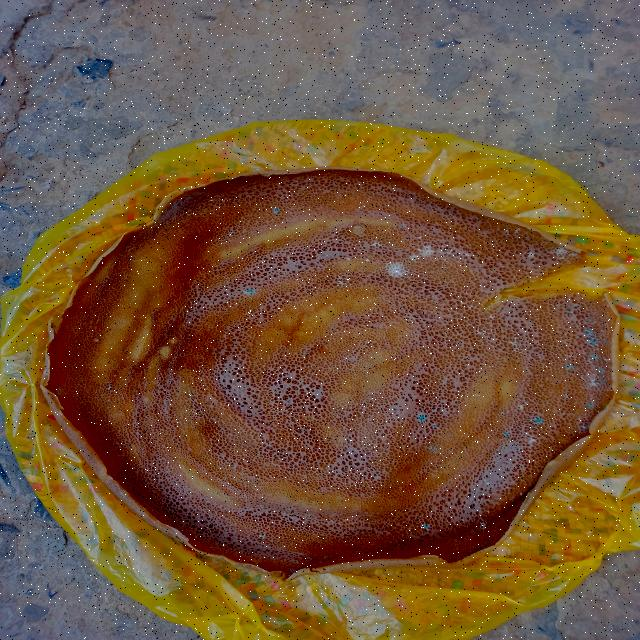injera_mold: (563, 325, 615, 413), (552, 243, 579, 266), (380, 259, 411, 278), (332, 270, 354, 288), (204, 192, 233, 205), (500, 225, 524, 240), (521, 433, 540, 450), (508, 337, 525, 356), (472, 327, 494, 336), (475, 514, 487, 530), (244, 286, 259, 298), (368, 241, 384, 248), (533, 416, 545, 425), (418, 412, 428, 422), (421, 522, 432, 531), (55, 388, 66, 397), (272, 208, 283, 215), (257, 534, 268, 541), (483, 480, 492, 488), (431, 422, 440, 430), (474, 391, 482, 400), (106, 384, 114, 392), (528, 251, 536, 259), (429, 444, 436, 452), (94, 337, 102, 344), (518, 403, 525, 410), (503, 430, 510, 437), (400, 223, 408, 229), (566, 306, 572, 313), (345, 257, 353, 261), (574, 304, 580, 308), (365, 258, 370, 262), (500, 412, 506, 415)
